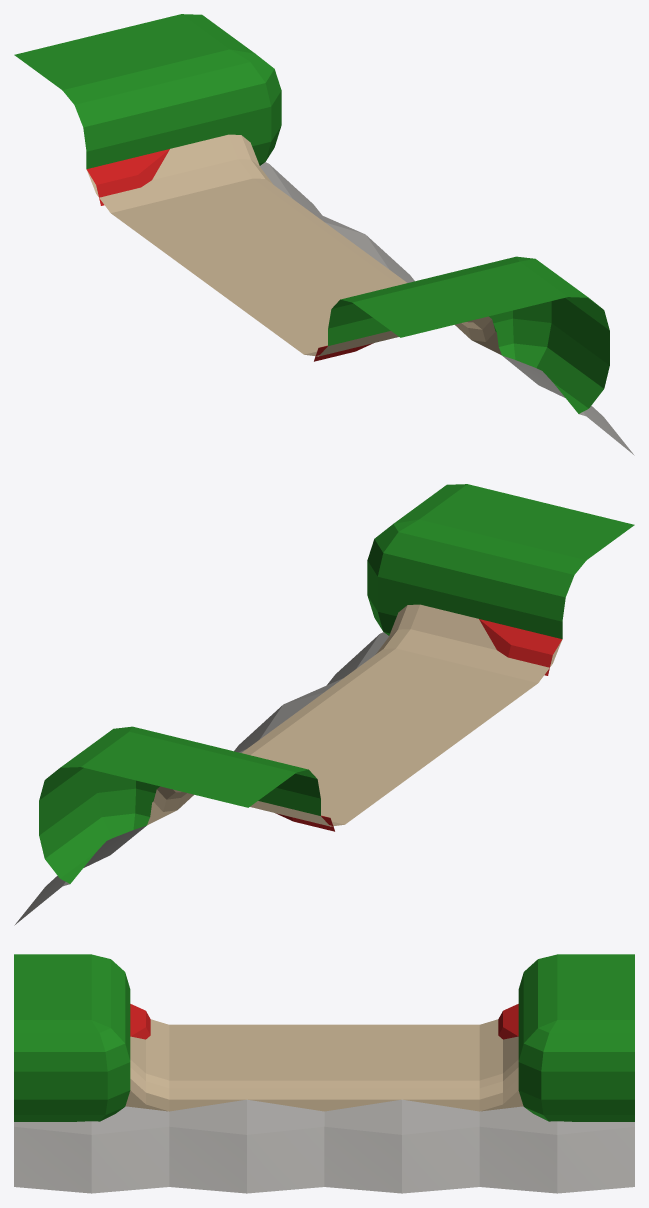
File: Track_Cliff_Edge_Striped_1_Tall_Double.obj
3 views of the same model, one above another, from view 1: azimuth 30°, elevation 25°; view 2: azimuth 150°, elevation 25°; view 3: azimuth 270°, elevation 25° (orthographic). The views are drawn at different scales.
Parts seen in each view (by area): view 1: Grass, Dirt, Rock, object1; view 2: Grass, Dirt, Rock, object2; view 3: Rock, Grass, Dirt, object1, object2.
Boxes of the visible parts, left/top/right/bottom form: Grass: left=14, top=14, right=609, bottom=413; Dirt: left=87, top=134, right=501, bottom=356; Rock: left=260, top=162, right=634, bottom=455; object1: left=86, top=149, right=169, bottom=205; Grass: left=39, top=484, right=634, bottom=883; Dirt: left=147, top=604, right=561, bottom=826; Rock: left=14, top=632, right=388, bottom=925; object2: left=479, top=619, right=562, bottom=675; Rock: left=14, top=1099, right=634, bottom=1193; Grass: left=14, top=954, right=634, bottom=1121; Dirt: left=125, top=1019, right=523, bottom=1111; object1: left=498, top=1004, right=518, bottom=1039; object2: left=130, top=1004, right=150, bottom=1039.
Size of the model in its own units: 1.5 by 1 by 4.
